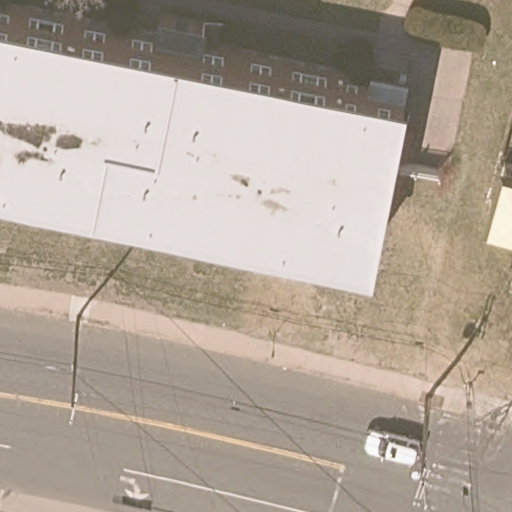DT: (411, 394, 436, 507), (68, 317, 86, 426)
